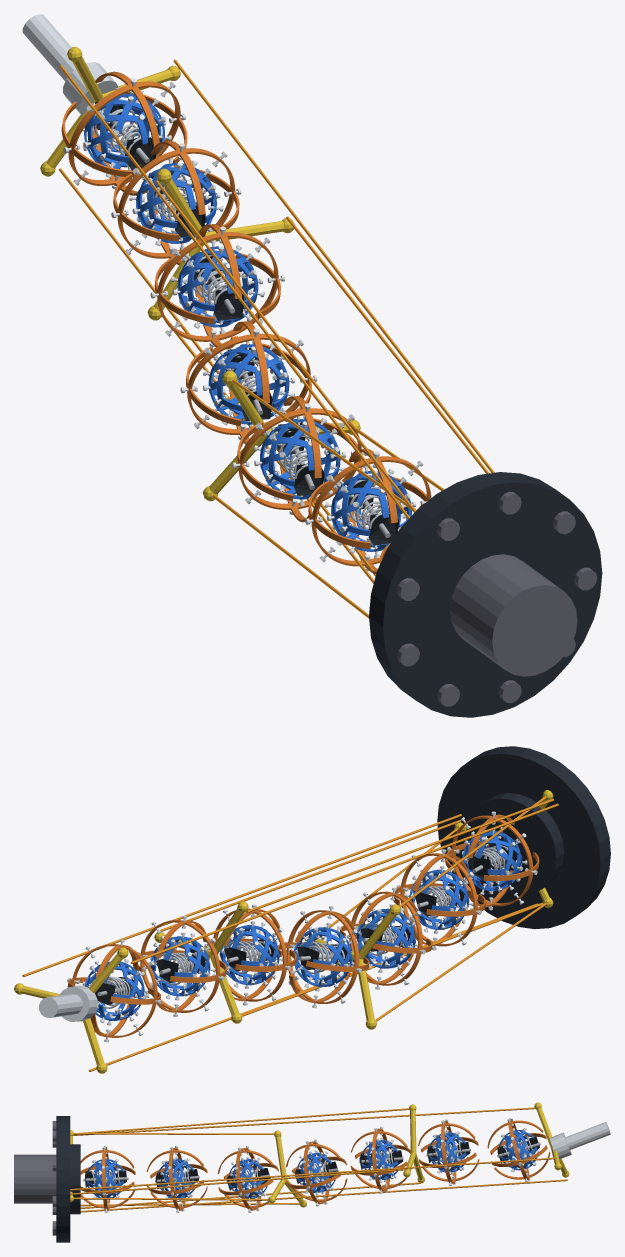
The model's file is trunc_arm_bent_posture.obj.
3 views of the same model, one above another, from view 1: azimuth 30°, elevation 25°; view 2: azimuth 150°, elevation 25°; view 3: azimuth 270°, elevation 25° (orthographic). The views are drawn at different scales.
Parts seen in each view (by area): view 1: base_mount, links_equatorial, winches, links_truss, tendons, pins, triad, collars, spring, tool; view 2: base_mount, links_equatorial, links_truss, tendons, pins, triad, spring, collars, tool, shaft; view 3: links_equatorial, tendons, links_truss, base_mount, winches, pins, triad, collars, tool, spring, shaft.
Boxes of the visible parts, x1=… form: base_mount: x1=369, y1=472, x2=602, y2=717; links_equatorial: x1=61, y1=71, x2=431, y2=573; winches: x1=397, y1=491, x2=597, y2=706; links_truss: x1=84, y1=93, x2=411, y2=551; tendons: x1=59, y1=59, x2=494, y2=618; pins: x1=63, y1=78, x2=427, y2=571; triad: x1=40, y1=47, x2=360, y2=501; collars: x1=95, y1=101, x2=399, y2=545; spring: x1=94, y1=99, x2=389, y2=529; tool: x1=22, y1=14, x2=118, y2=115; base_mount: x1=437, y1=746, x2=610, y2=929; links_equatorial: x1=67, y1=814, x2=539, y2=1037; links_truss: x1=85, y1=831, x2=522, y2=1021; tendons: x1=22, y1=796, x2=558, y2=1071; pins: x1=67, y1=811, x2=537, y2=1042; triad: x1=14, y1=790, x2=553, y2=1073; spring: x1=91, y1=845, x2=507, y2=1008; collars: x1=95, y1=845, x2=516, y2=1004; tool: x1=39, y1=986, x2=97, y2=1021; shaft: x1=97, y1=856, x2=501, y2=996; links_equatorial: x1=80, y1=1119, x2=550, y2=1210; tendons: x1=70, y1=1107, x2=567, y2=1212; links_truss: x1=87, y1=1130, x2=538, y2=1198; base_mount: x1=56, y1=1116, x2=80, y2=1242; winches: x1=14, y1=1121, x2=56, y2=1235; pins: x1=91, y1=1117, x2=536, y2=1212; triad: x1=70, y1=1102, x2=569, y2=1207; collars: x1=85, y1=1136, x2=539, y2=1190; tool: x1=549, y1=1122, x2=610, y2=1159; spring: x1=92, y1=1135, x2=532, y2=1189; shaft: x1=83, y1=1142, x2=540, y2=1183.
Size of the model in its own units: 245 by 234 by 849.
